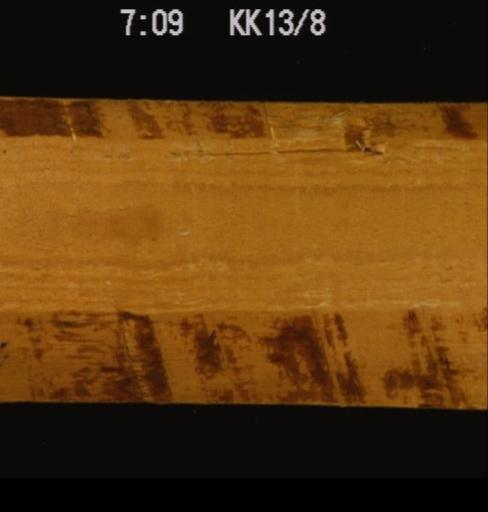split: (181, 136, 382, 159)
wave: (0, 283, 486, 408), (0, 97, 486, 163)
